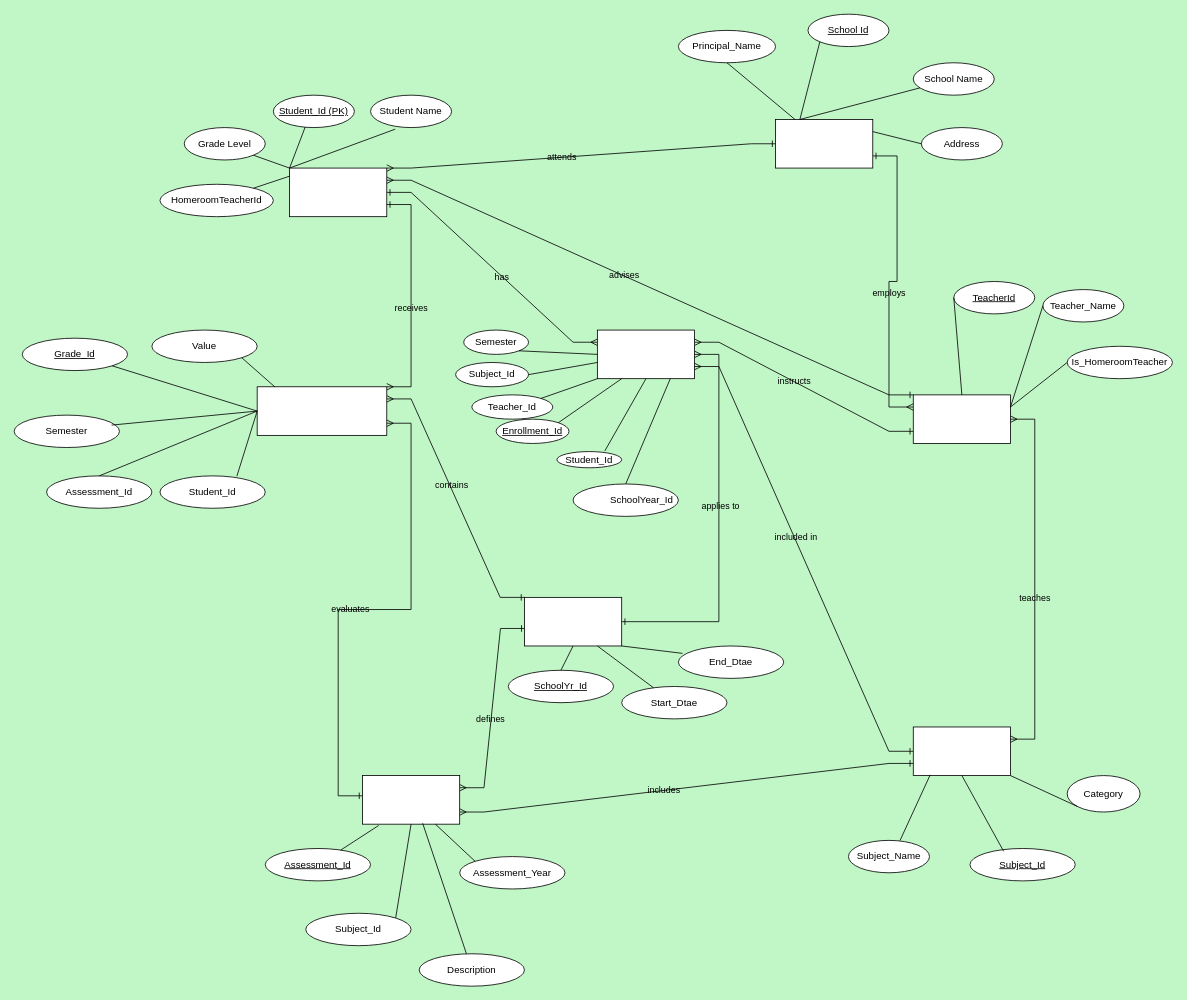
The diagram is 1187 pixels wide and 1000 high, and some of its shapes have lost their labels. Here are the shapes that lost their labels. From the top down, the box of each, then its label:
(775, 119, 873, 168): School
(289, 167, 387, 217): Student
(597, 329, 695, 379): Enrollment
(256, 386, 387, 435): Grade
(912, 394, 1010, 443): Teacher
(524, 597, 622, 646): School Year
(912, 726, 1010, 776): Subject
(362, 775, 460, 824): Assessment
